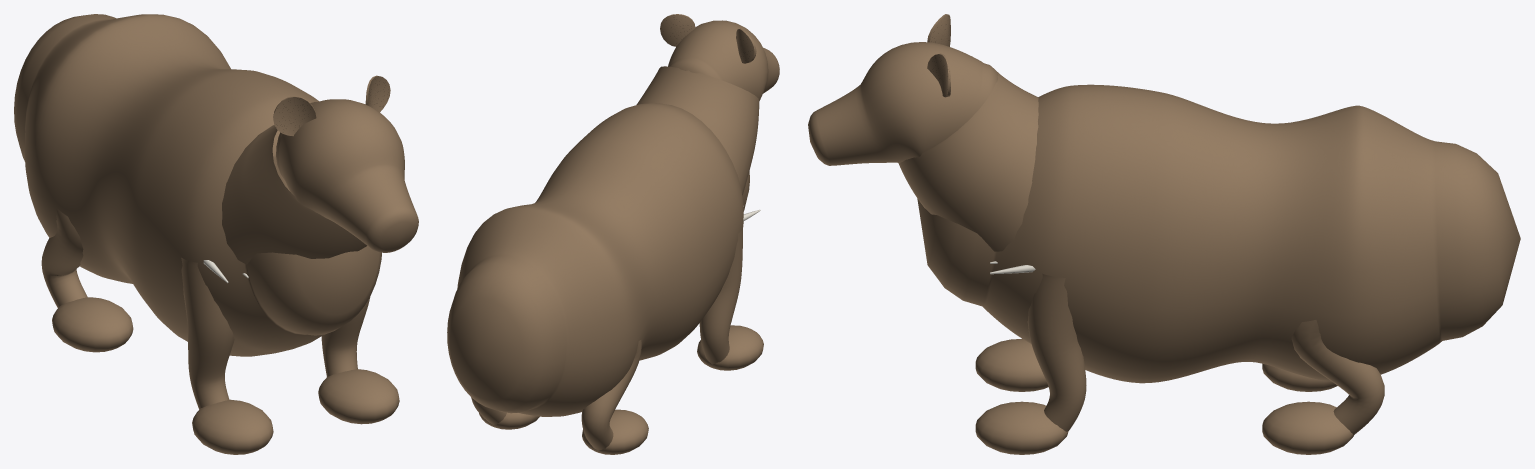
Rendered from other-grizzly-bear.glb.
The picture shows the model from 3 angles, left to right: view 1: azimuth 30°, elevation 25°; view 2: azimuth 150°, elevation 25°; view 3: azimuth 270°, elevation 25°; orthographic projection. The views are drawn at different scales.
Visible parts, largest first — view 1: grizzly-bear; view 2: grizzly-bear; view 3: grizzly-bear.
Part boxes in pixels (<box>): grizzly-bear: <box>14,14,418,454</box>; grizzly-bear: <box>447,14,779,454</box>; grizzly-bear: <box>808,14,1520,454</box>.
Bounding box in the file's own units: 24740 × 43699 × 73877.
5 materials, 2 textured.
